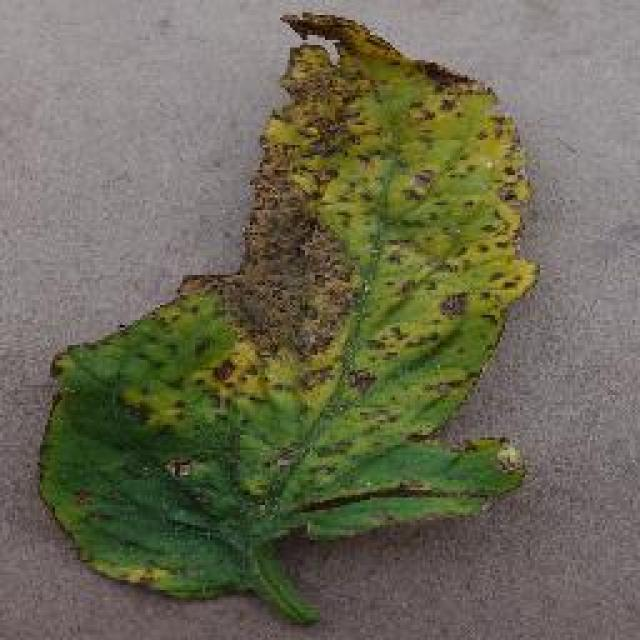bacterial spot: (35, 16, 547, 622)
